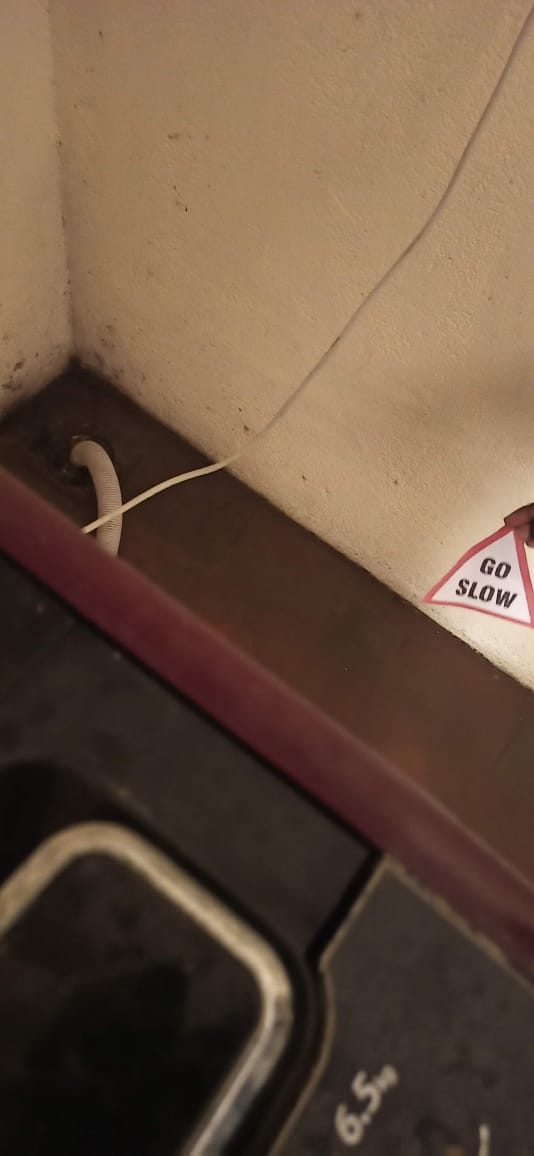GO SLOW: (422, 519, 534, 614)
